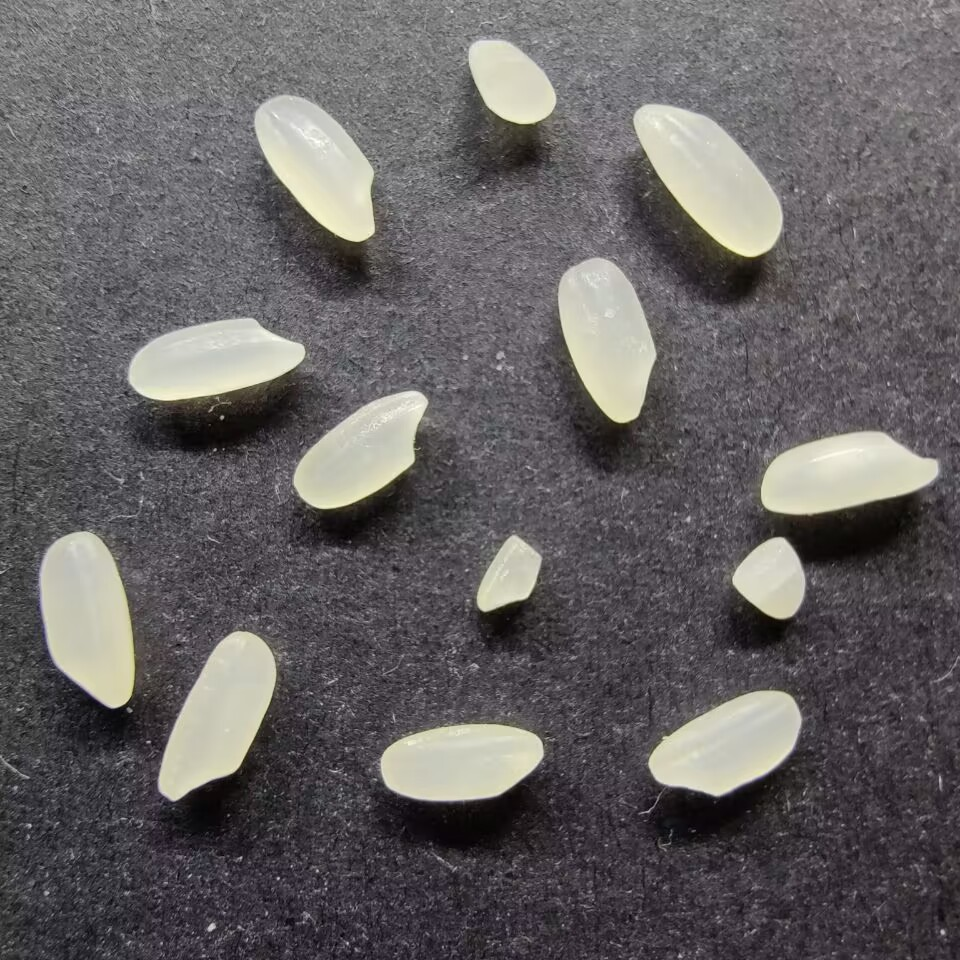broken: (465, 37, 557, 125), (729, 535, 808, 622), (472, 533, 543, 614)
rice: (631, 101, 784, 257), (156, 628, 279, 803), (251, 94, 378, 244), (556, 256, 659, 425), (39, 530, 135, 709), (292, 386, 428, 510), (648, 689, 802, 798), (758, 429, 943, 514), (125, 316, 307, 402), (379, 723, 544, 803)
